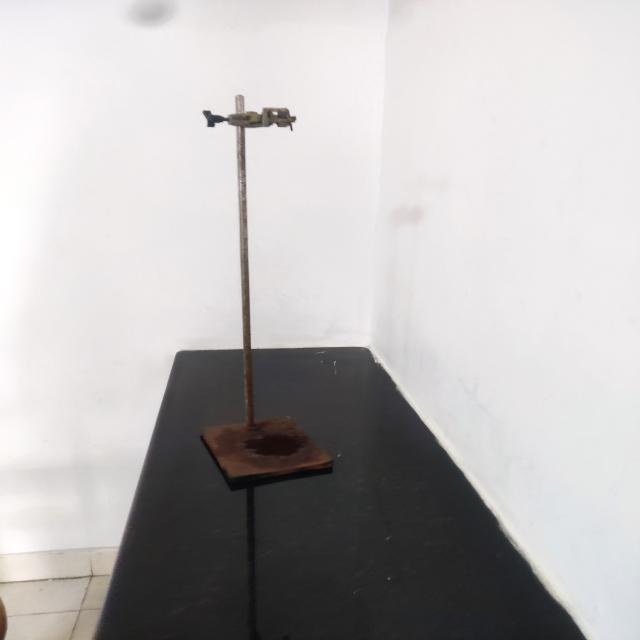Burette_Stands: (161, 74, 369, 522)
